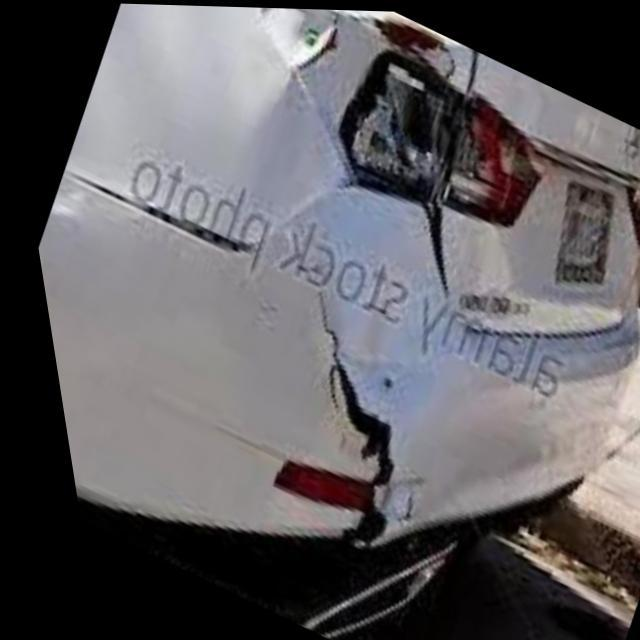crack: (284, 285, 396, 558)
dislocated part: (38, 151, 245, 277)
lamp broken: (247, 6, 503, 306)
